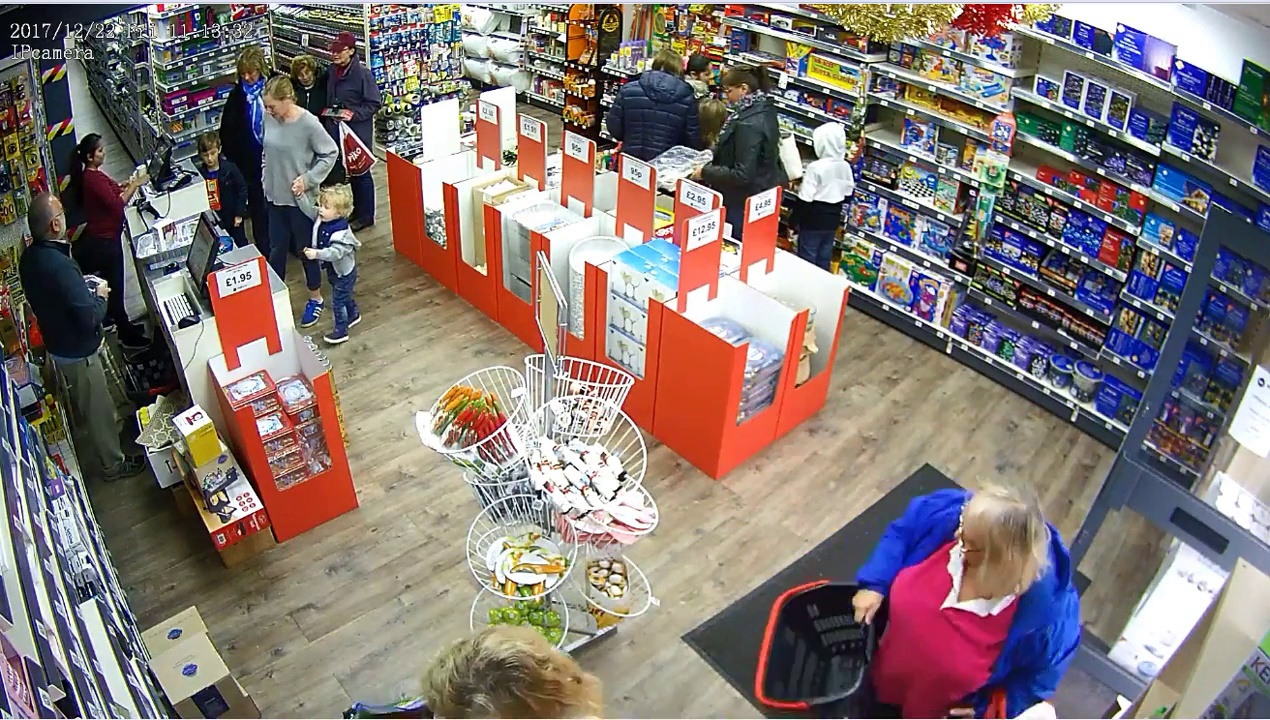face: (315, 194, 342, 221), (292, 58, 317, 86), (237, 64, 262, 86), (265, 89, 283, 119), (90, 140, 111, 165), (197, 144, 218, 165)
